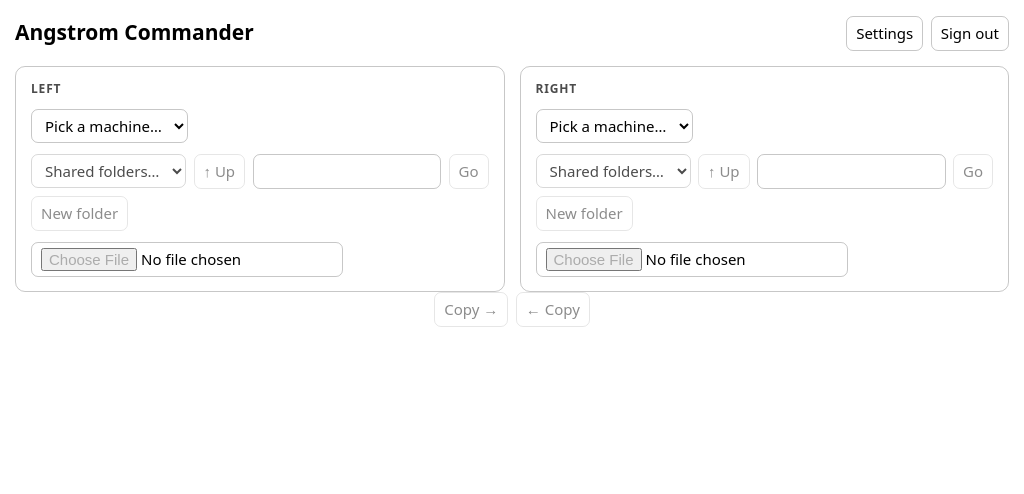
Test case: delete asks first and removes the entry
The image size is (1024, 494).
Select "Home PC" in the dropdown named "Left: machine" at (110, 126), box [31, 108, 188, 143]
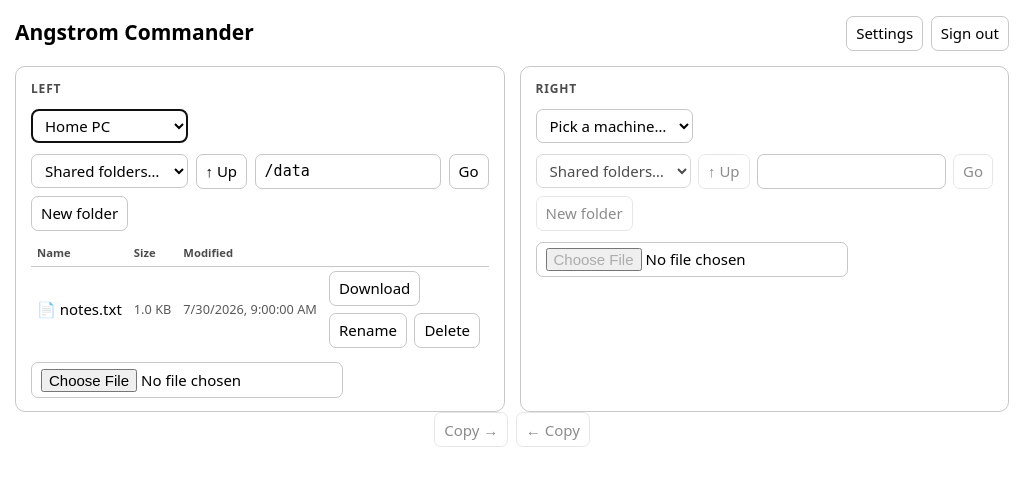
Click the button "Delete" at (447, 331), box [414, 313, 480, 348]
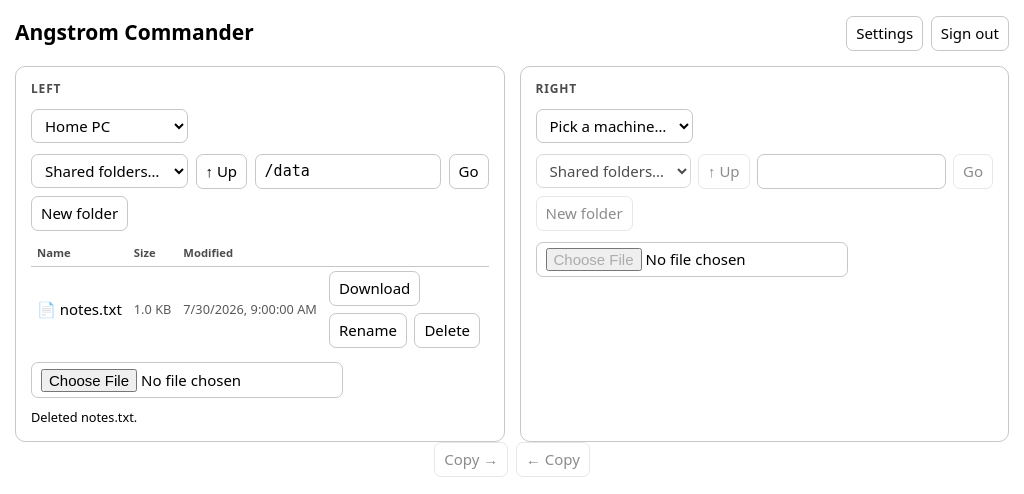
Now the text "Deleted notes.txt." is shown, box [31, 408, 137, 426]
